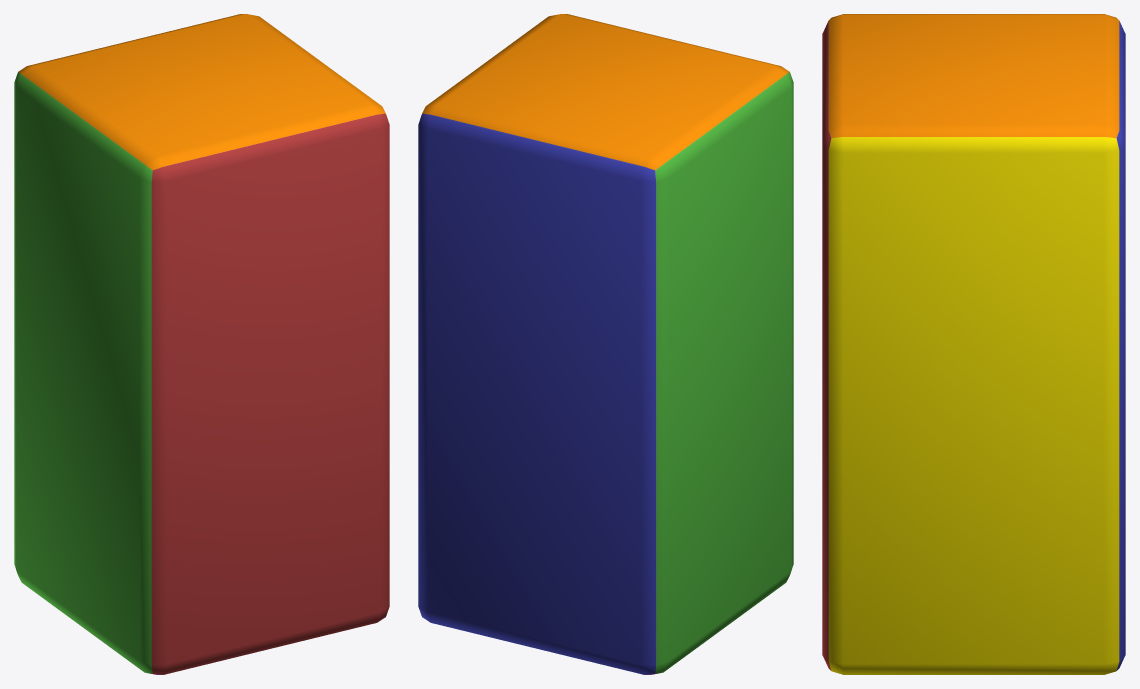
The model's file is leftLeg.obj.
3 views of the same model, side by side, from view 1: azimuth 30°, elevation 25°; view 2: azimuth 150°, elevation 25°; view 3: azimuth 270°, elevation 25° (orthographic). The views are drawn at different scales.
Parts seen in each view (by area): view 1: Cube.001_Cube.005; view 2: Cube.001_Cube.005; view 3: Cube.001_Cube.005.
Part boxes in pixels (x1,y1,x2,y2): Cube.001_Cube.005: (14,14,389,674); Cube.001_Cube.005: (418,14,793,674); Cube.001_Cube.005: (822,14,1125,674).
Bounding box in the file's own units: 1 × 2 × 1.
